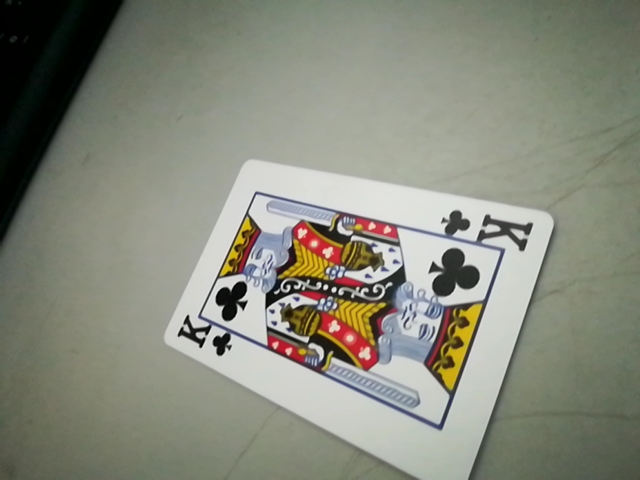mh k: (436, 206, 537, 247), (173, 318, 238, 361)
